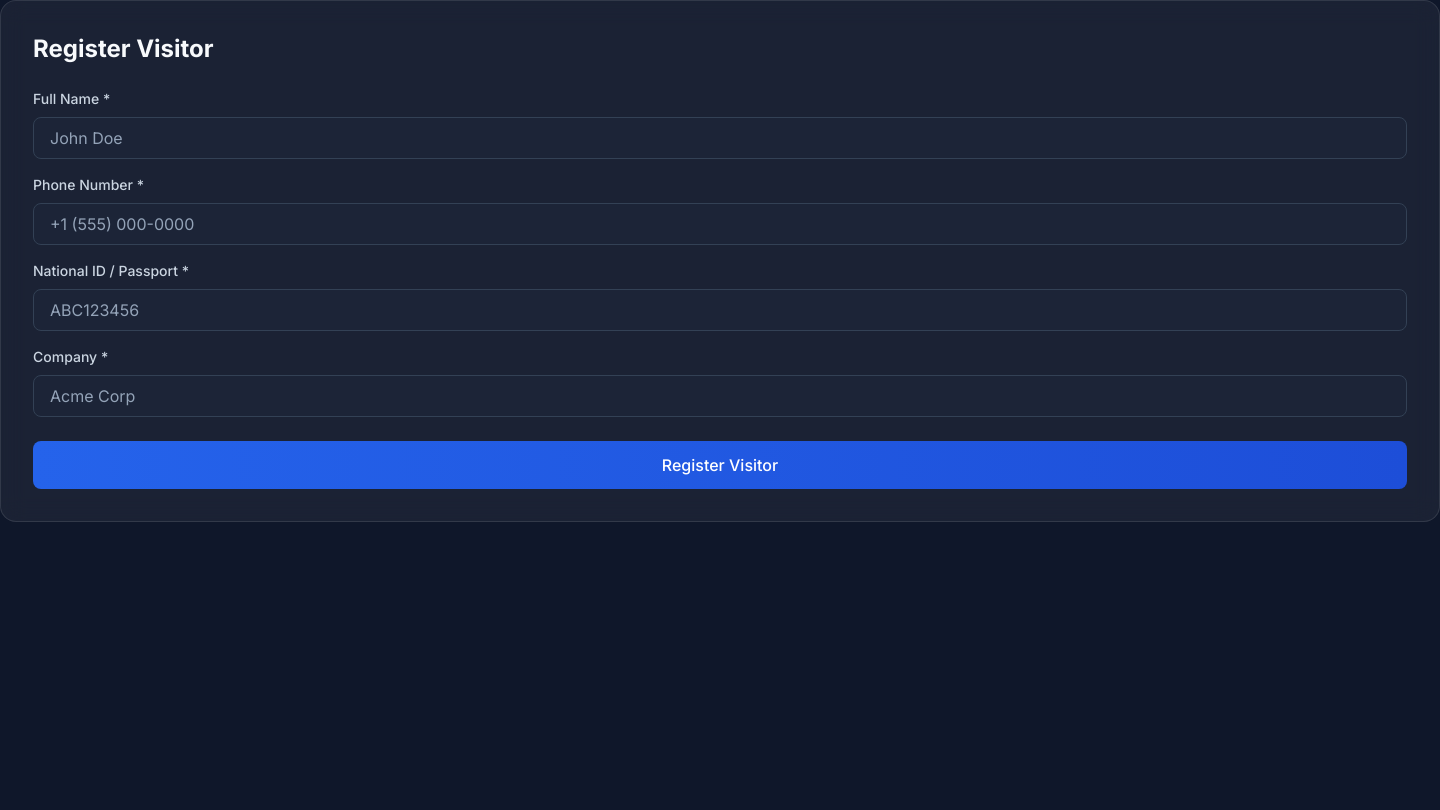
it: VisitorRegistrationForm › should show validation errors for empty required fields
The width and height of the screenshot is (1440, 810).
Click the button "Register Visitor" at (720, 465), box [33,441,1407,489]
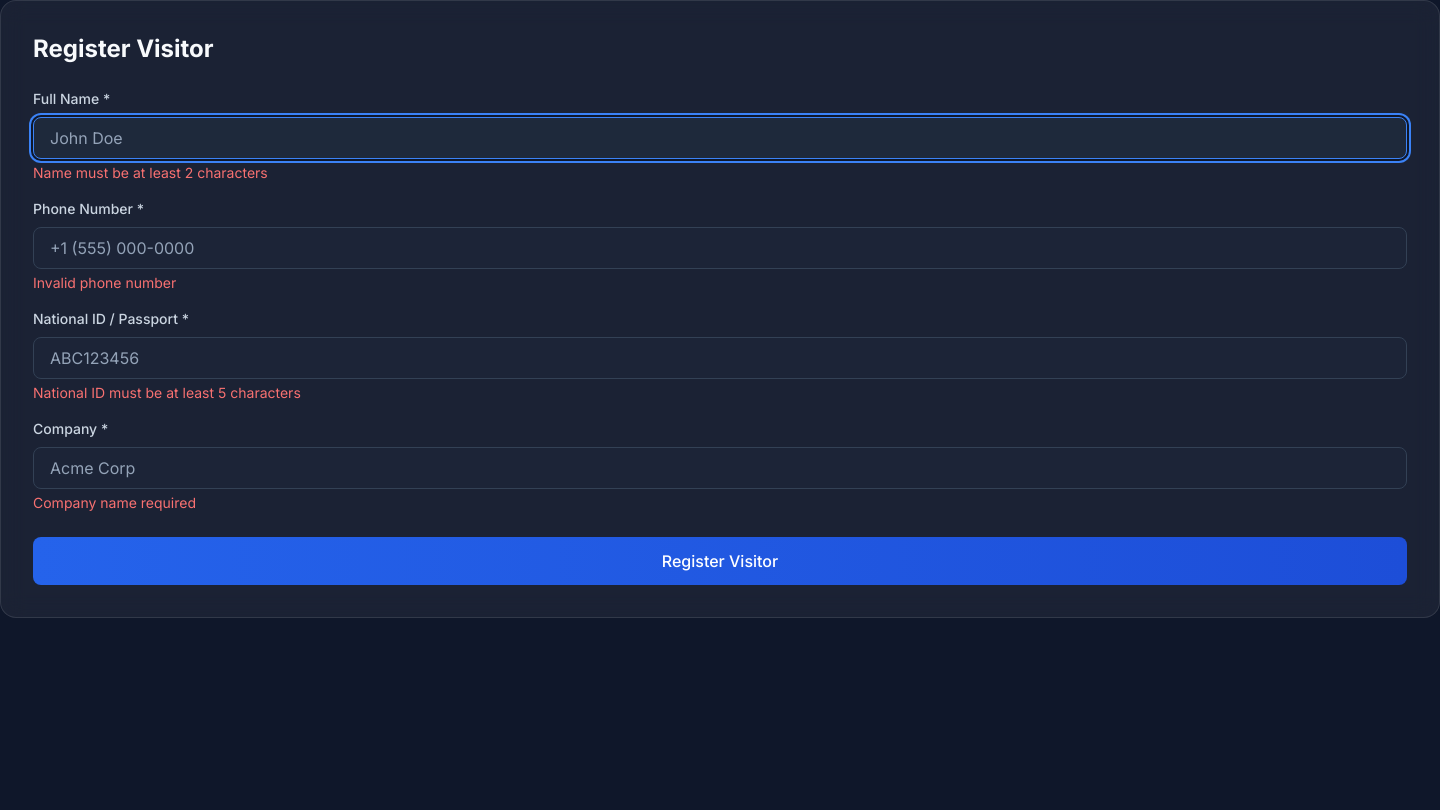
expect the text "Name must be at least 2 characters" is shown: met, box [33,164,268,181]
